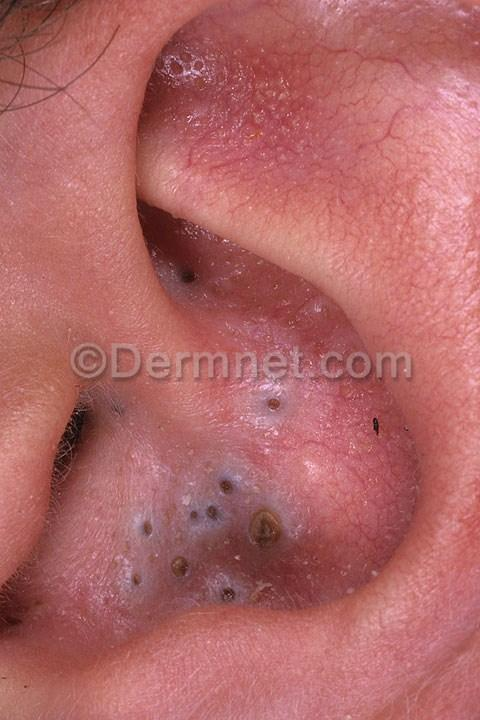Acne: (105, 497, 260, 620), (155, 461, 287, 553), (149, 249, 235, 310), (231, 369, 303, 438)
